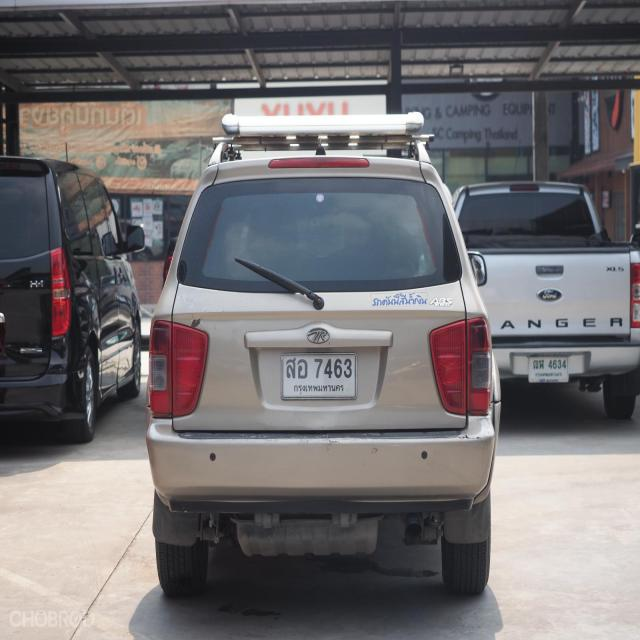license_plate: (281, 348, 358, 401), (527, 354, 571, 387)
